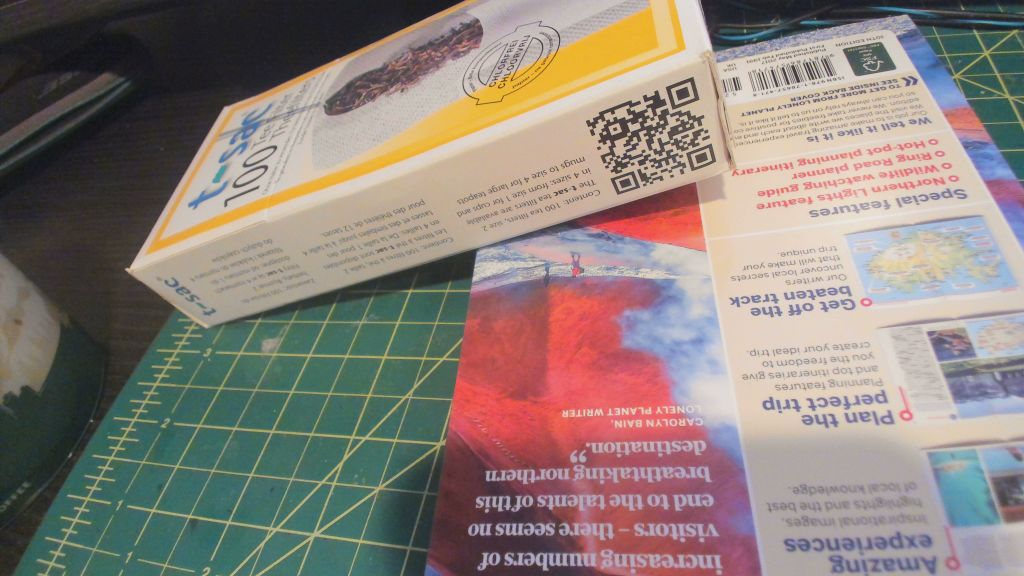QR_CODE: (574, 68, 726, 203)
